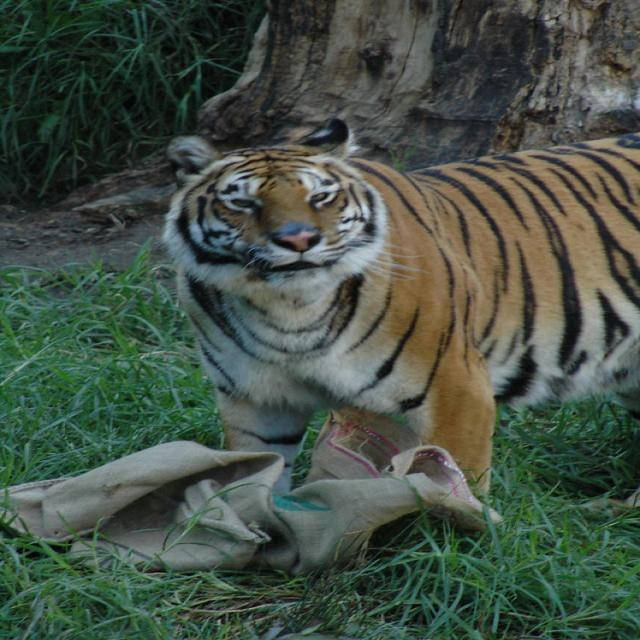Tiger: (152, 115, 635, 503)
